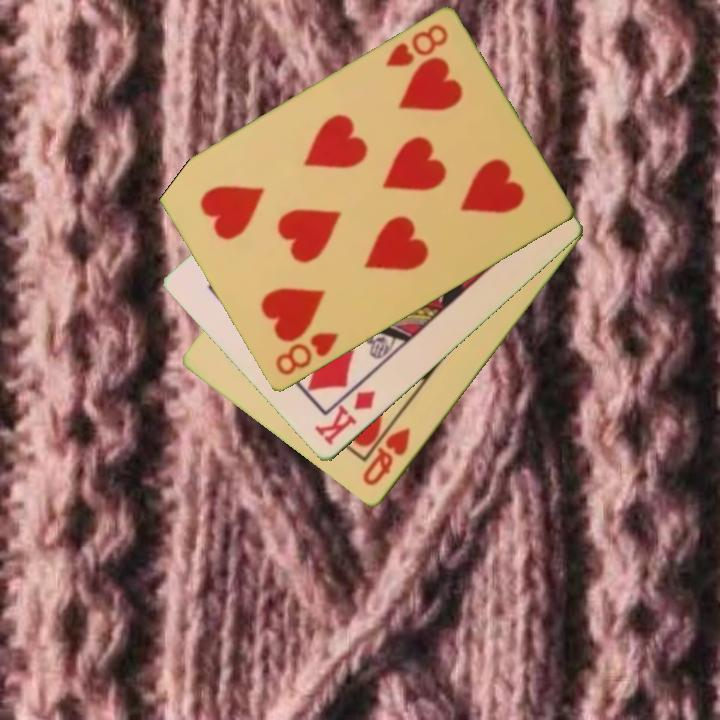8h: (271, 329, 342, 379), (381, 21, 451, 71)
Kd: (311, 387, 379, 449)
Qh: (359, 424, 414, 490)
